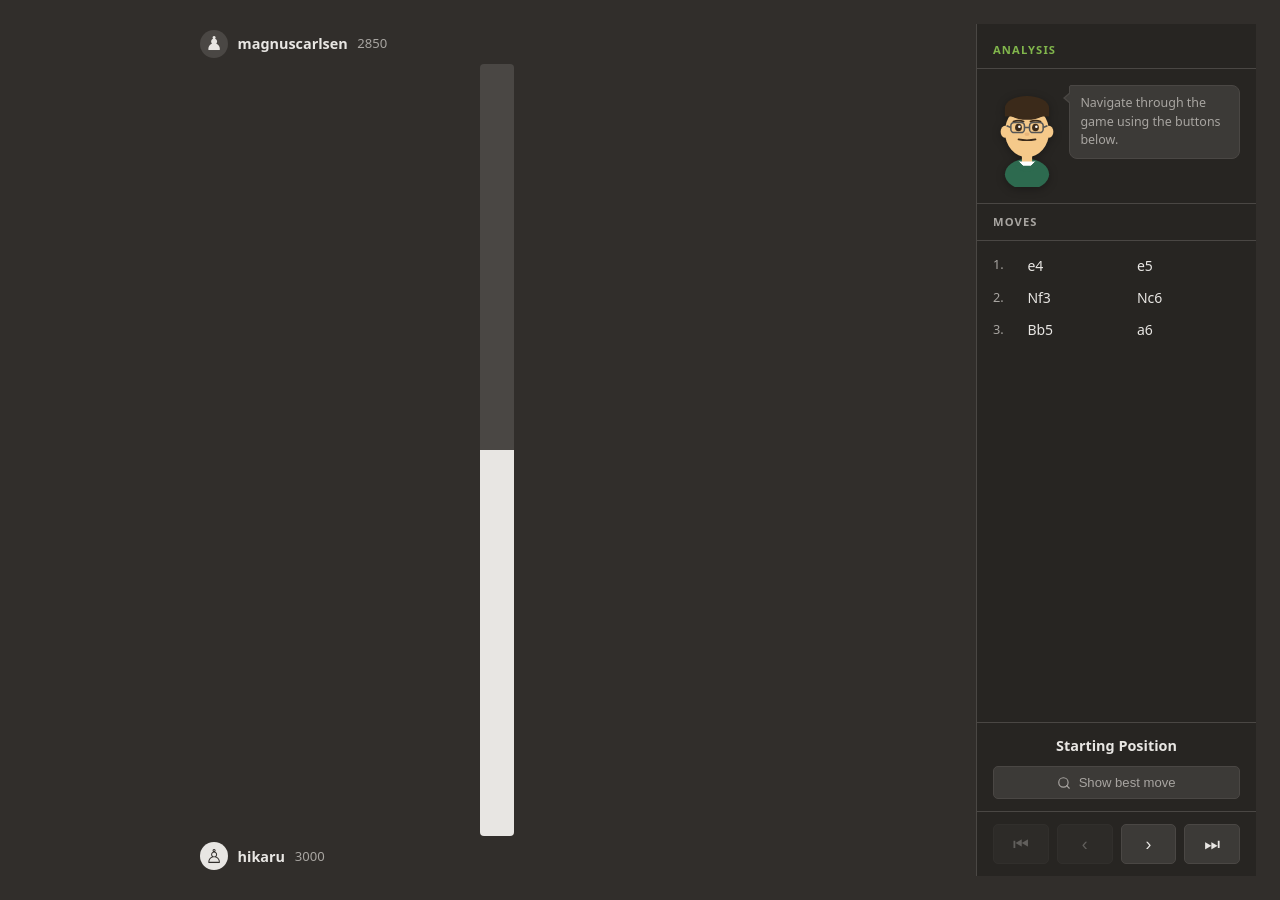
Test: ReviewPage move list › jumps to a move when clicked in the move list
Click the text "e4". click: (1035,265)
box: left=1027, top=256, right=1043, bottom=275
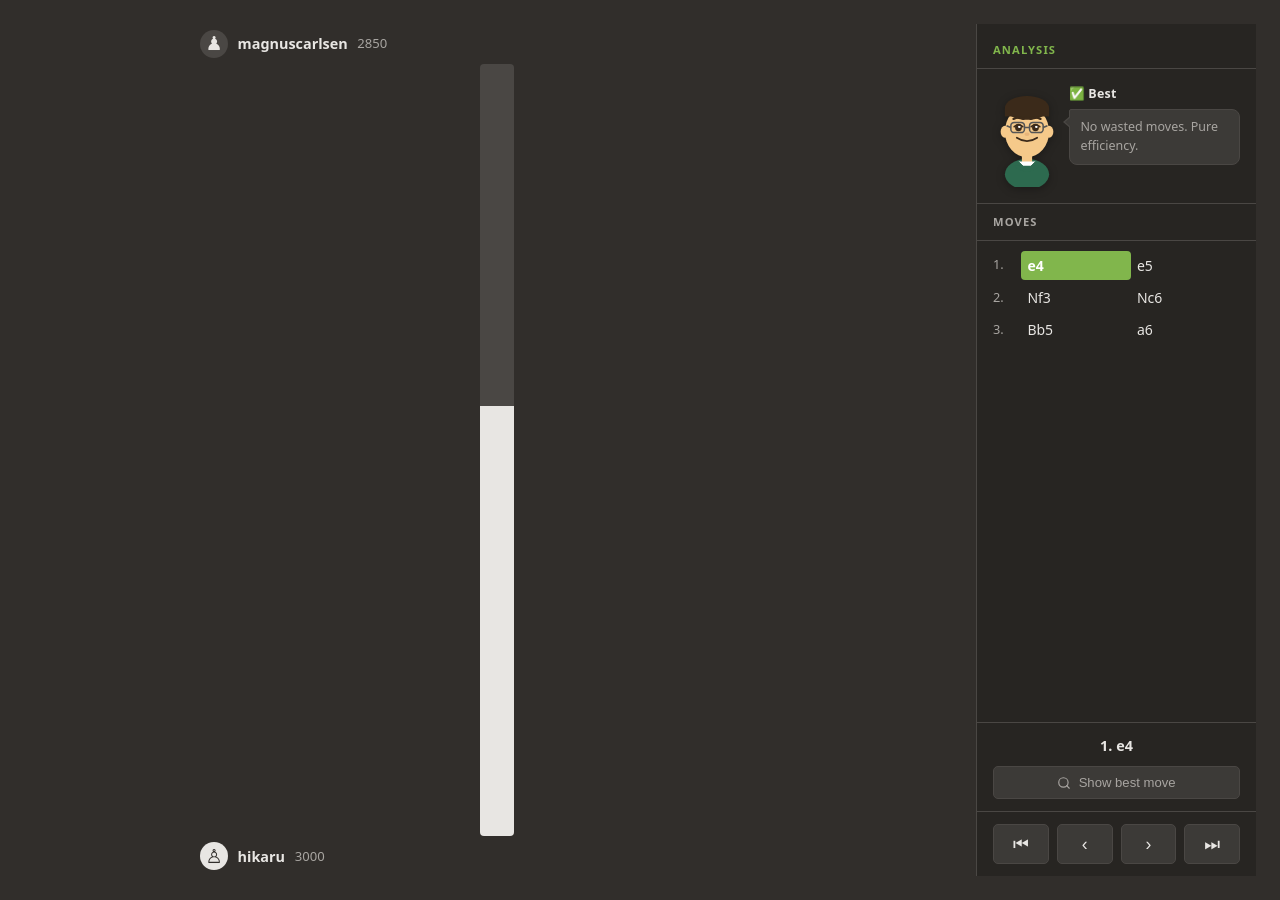
Expected: the text "1. e4" is shown, left=1100, top=736, right=1133, bottom=755
